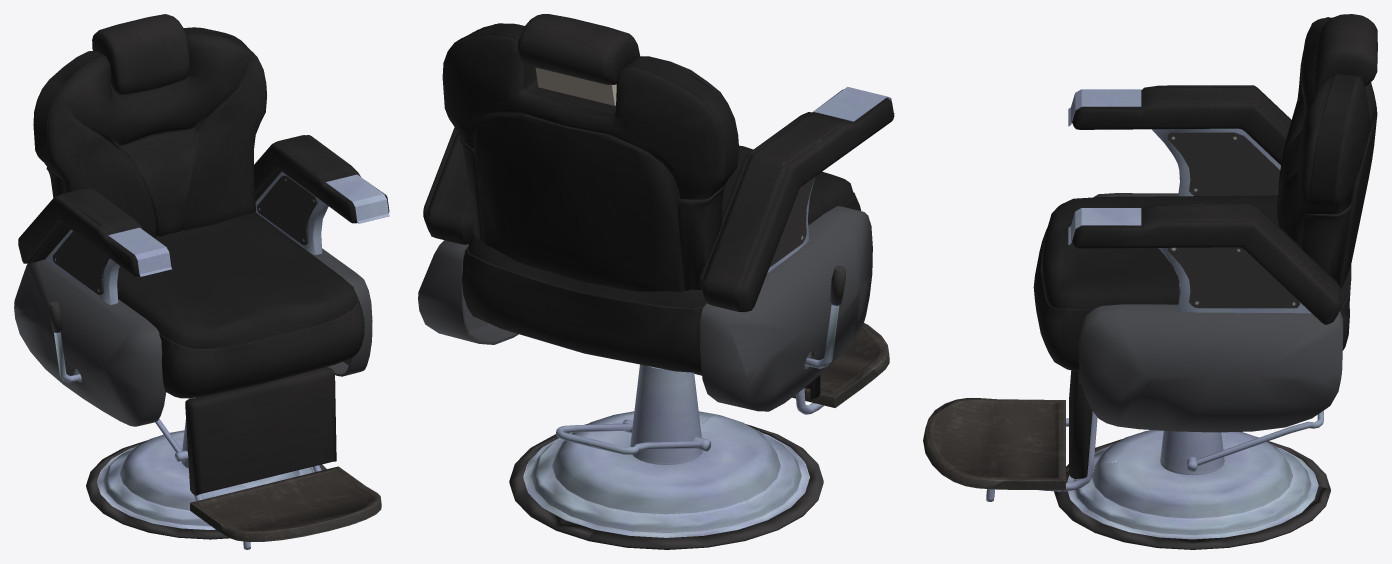
File: barber_chair.glb
3 renders of one model, left to right at view 1: azimuth 30°, elevation 25°; view 2: azimuth 150°, elevation 25°; view 3: azimuth 270°, elevation 25°, orthographic. The views are drawn at different scales.
Visible parts, largest first — view 1: barber_chair; view 2: barber_chair; view 3: barber_chair.
Part boxes in pixels (<box>): barber_chair: <box>14,14,389,549</box>; barber_chair: <box>418,14,894,549</box>; barber_chair: <box>923,14,1377,549</box>.
Bounding box in the file's own units: 0.8877 × 1.25 × 1.12.
3 materials, 3 textured.
